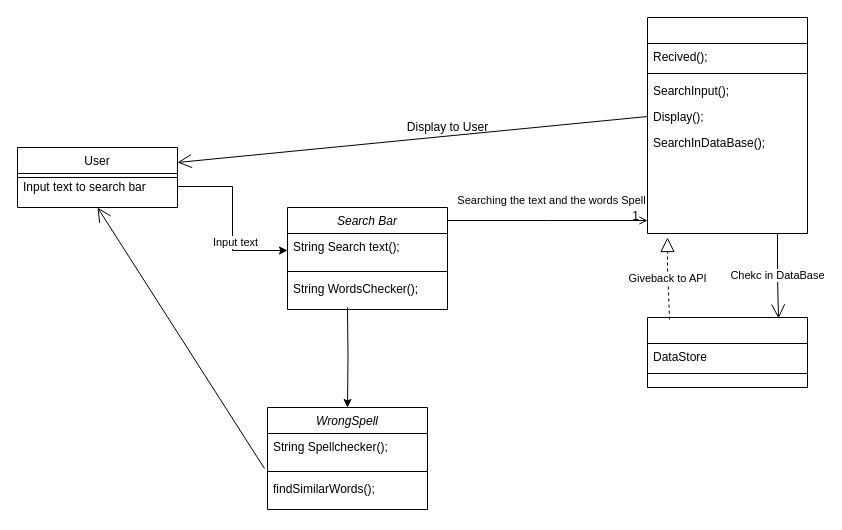
Some shapes in this 842 by 530 pixel diagram are drawn without their labels. Here are the shapes that lost their labels. From the top down, the box of each, then its label:
(646, 16, 808, 234): API
(646, 316, 808, 388): DataBase
